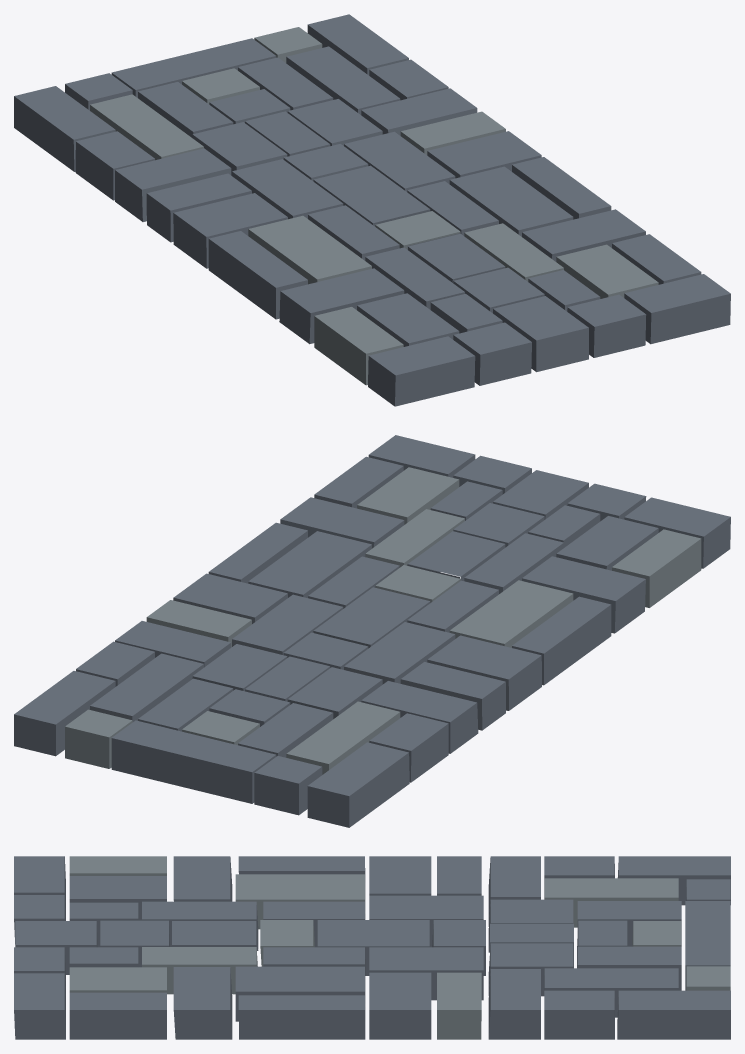
The model's file is Path_Straight.glb.
3 views of the same model, one above another, from view 1: azimuth 30°, elevation 25°; view 2: azimuth 150°, elevation 25°; view 3: azimuth 270°, elevation 25° (orthographic). The views are drawn at different scales.
Parts seen in each view (by area): view 1: Path_Straight; view 2: Path_Straight; view 3: Path_Straight.
Boxes of the visible parts, x1,y1,x2,y2 form: Path_Straight: (14,14,730,406); Path_Straight: (14,435,730,827); Path_Straight: (14,856,730,1039).
Size of the model in its own units: 0.4961 by 0.0449 by 0.9779.
